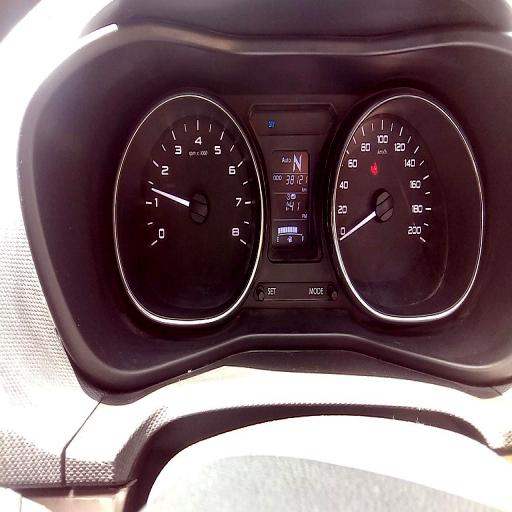belt: (372, 161, 378, 177)
tachometer: (143, 108, 257, 297)
